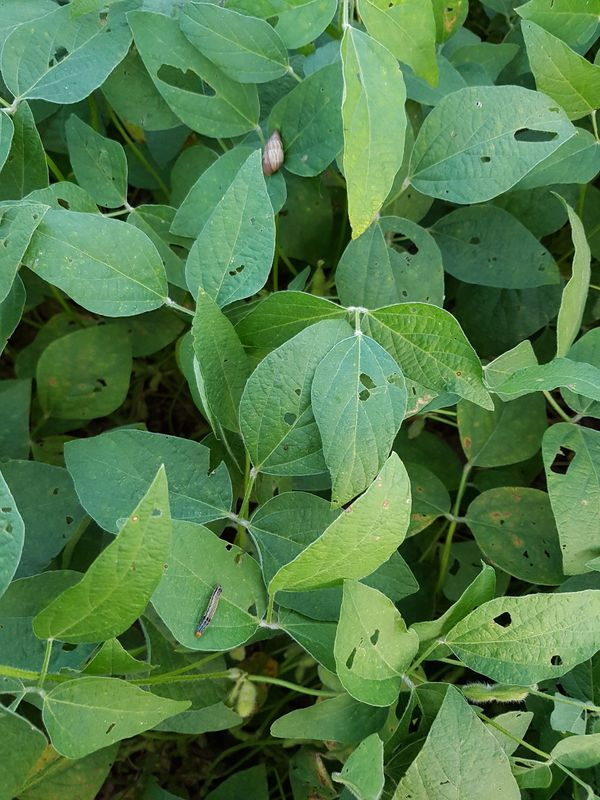Gastropoda: (247, 124, 302, 182)
Spodoptera_albula: (184, 579, 236, 644)
